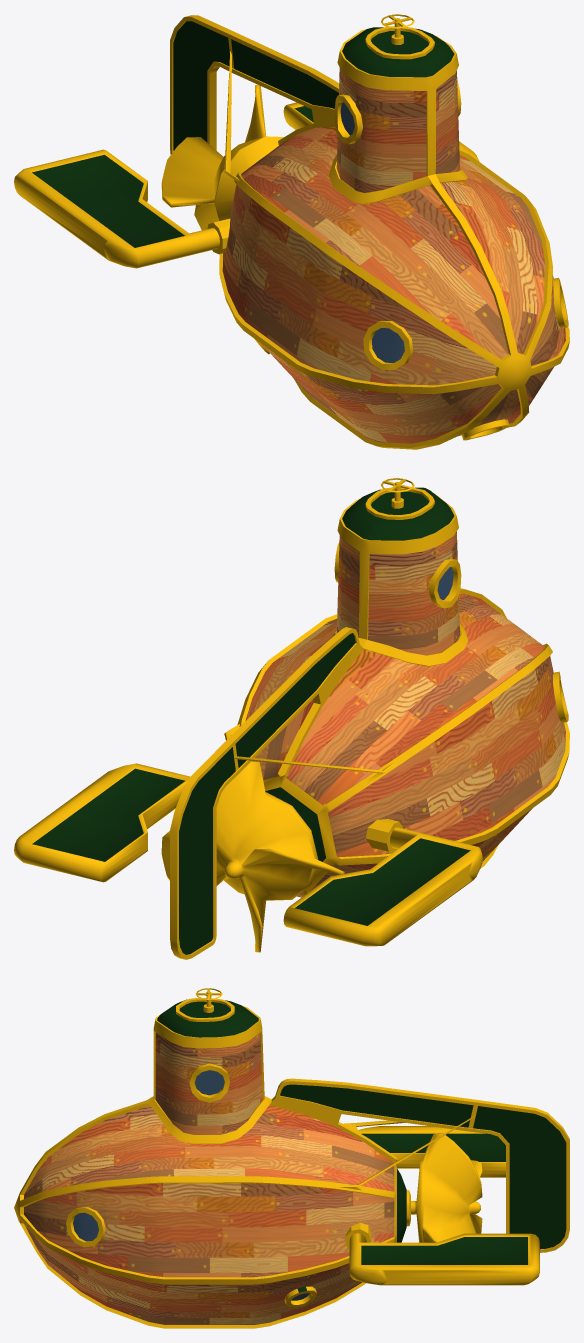
The model's file is submarine-v2.dae.
The picture shows the model from 3 angles, top to bottom: view 1: azimuth 30°, elevation 25°; view 2: azimuth 150°, elevation 25°; view 3: azimuth 270°, elevation 25°; orthographic projection. The views are drawn at different scales.
Parts seen in each view (by area): view 1: SUBMARINE: body, SUBMARINE: fins, SUBMARINE: prop; view 2: SUBMARINE: body, SUBMARINE: fins, SUBMARINE: prop; view 3: SUBMARINE: body, SUBMARINE: fins, SUBMARINE: prop.
Part boxes in pixels (x1,y1,x2,y2): SUBMARINE: body: (170,14,569,449); SUBMARINE: fins: (14,102,479,268); SUBMARINE: prop: (161,85,283,254); SUBMARINE: body: (170,478,569,959); SUBMARINE: fins: (14,763,482,946); SUBMARINE: prop: (161,761,344,952); SUBMARINE: body: (14,988,569,1328); SUBMARINE: fins: (349,1126,539,1285); SUBMARINE: prop: (411,1132,482,1242).
Size of the model in its own units: 2.79 by 4.56 by 2.86.
1 material, 1 textured.
